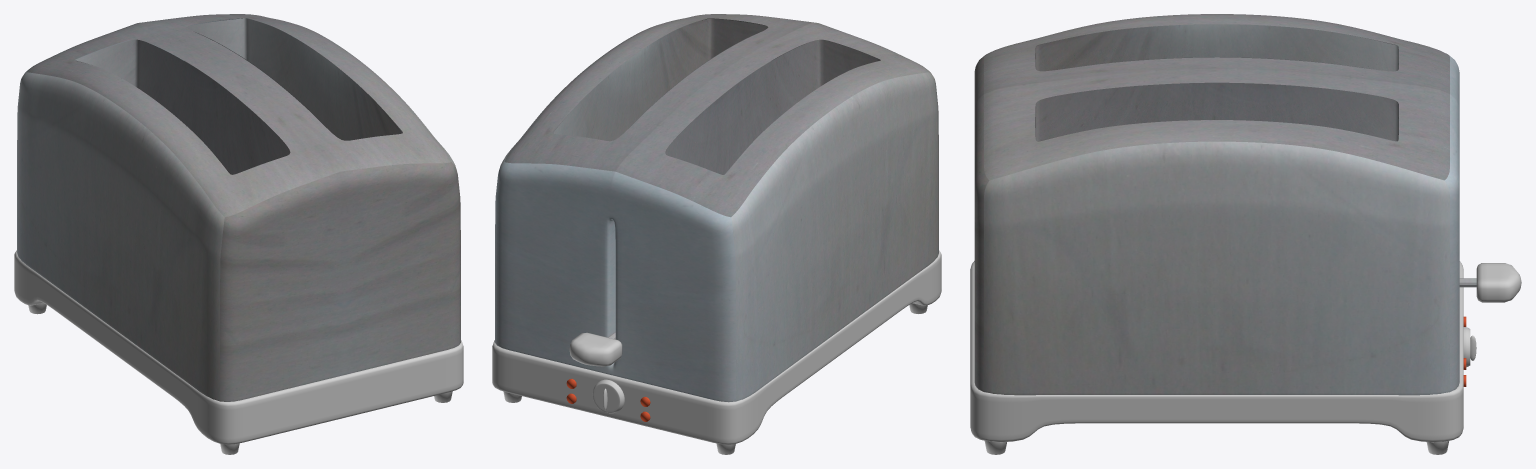
The model's file is toaster.fbx.
3 renders of one model, left to right at view 1: azimuth 30°, elevation 25°; view 2: azimuth 150°, elevation 25°; view 3: azimuth 270°, elevation 25°, orthographic. The views are drawn at different scales.
Visible parts, largest first — view 1: Toaster (exterior), Toaster (interior), Toaster (base), Toaster stands; view 2: Toaster (exterior), Toaster (interior), Toaster (base), Toaster Handle, Toaster heat-adjuster, Toaster stands; view 3: Toaster (exterior), Toaster (interior), Toaster (base), Toaster Handle.
Boxes of the visible parts, bbox=[...] form: Toaster (exterior): bbox=[17, 14, 460, 401]; Toaster (interior): bbox=[75, 18, 402, 174]; Toaster (base): bbox=[14, 250, 463, 444]; Toaster stands: bbox=[28, 303, 452, 454]; Toaster (exterior): bbox=[495, 14, 938, 402]; Toaster (interior): bbox=[553, 18, 880, 174]; Toaster (base): bbox=[492, 250, 941, 444]; Toaster Handle: bbox=[569, 332, 622, 366]; Toaster heat-adjuster: bbox=[592, 379, 624, 413]; Toaster stands: bbox=[503, 303, 927, 454]; Toaster (exterior): bbox=[974, 14, 1459, 395]; Toaster (interior): bbox=[1035, 24, 1398, 141]; Toaster (base): bbox=[970, 261, 1463, 442]; Toaster Handle: bbox=[1476, 263, 1521, 302].
Bounding box in the file's own units: 0.69 × 0.7317 × 1.14.
